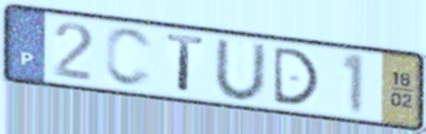1: (338, 51, 367, 118)
2: (51, 20, 96, 83)
C: (102, 25, 156, 90)
D: (271, 45, 322, 107)
T: (164, 31, 207, 96)
U: (212, 37, 269, 104)
